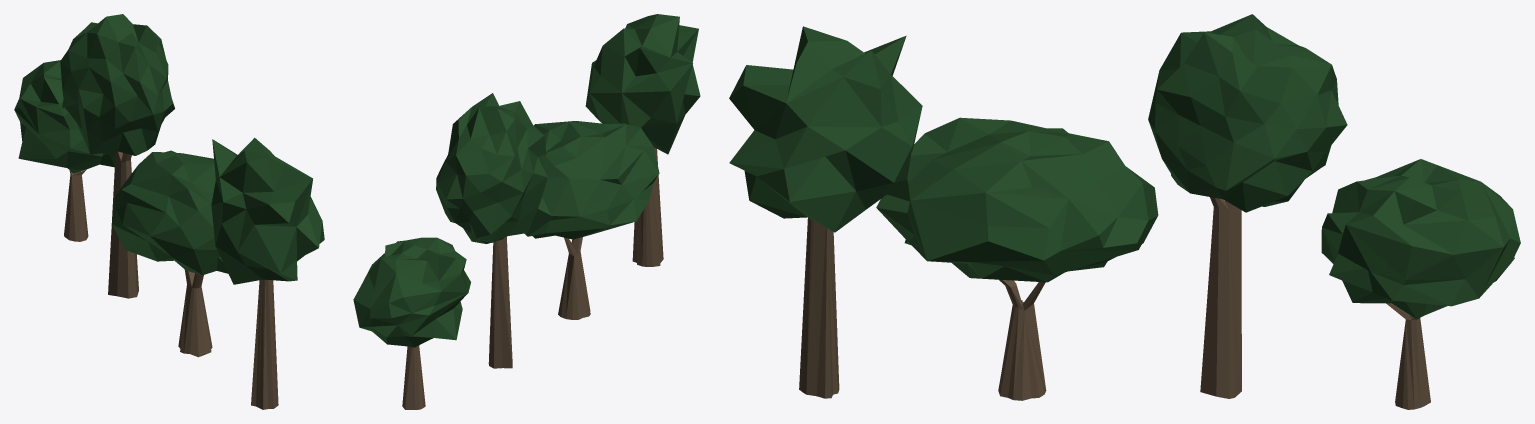
Rendered from trees.fbx.
3 renders of one model, left to right at view 1: azimuth 30°, elevation 25°; view 2: azimuth 150°, elevation 25°; view 3: azimuth 270°, elevation 25°, orthographic. The views are drawn at different scales.
Parts seen in each view (by area): view 1: Cylinder.001_Cylinder.003, Cylinder.001_Cylinder.005, Cylinder.001_Cylinder.004, Cylinder.001_Cylinder.000; view 2: Cylinder.001_Cylinder.005, Cylinder.001_Cylinder.004, Cylinder.001_Cylinder.003, Cylinder.001_Cylinder.000; view 3: Cylinder.001_Cylinder.004, Cylinder.001_Cylinder.005, Cylinder.001_Cylinder.003, Cylinder.001_Cylinder.000.
Boxes of the visible parts, x1=… form: Cylinder.001_Cylinder.003: x1=211, y1=137, x2=324, y2=409; Cylinder.001_Cylinder.005: x1=60, y1=14, x2=174, y2=298; Cylinder.001_Cylinder.004: x1=112, y1=150, x2=228, y2=357; Cylinder.001_Cylinder.000: x1=14, y1=60, x2=115, y2=241; Cylinder.001_Cylinder.005: x1=436, y1=93, x2=547, y2=368; Cylinder.001_Cylinder.004: x1=524, y1=121, x2=659, y2=319; Cylinder.001_Cylinder.003: x1=585, y1=14, x2=700, y2=266; Cylinder.001_Cylinder.000: x1=353, y1=237, x2=470, y2=409; Cylinder.001_Cylinder.004: x1=876, y1=117, x2=1158, y2=400; Cylinder.001_Cylinder.005: x1=1148, y1=14, x2=1347, y2=398; Cylinder.001_Cylinder.003: x1=729, y1=26, x2=922, y2=398; Cylinder.001_Cylinder.000: x1=1321, y1=159, x2=1520, y2=409.
Size of the model in its own units: 231 by 418 by 800.
